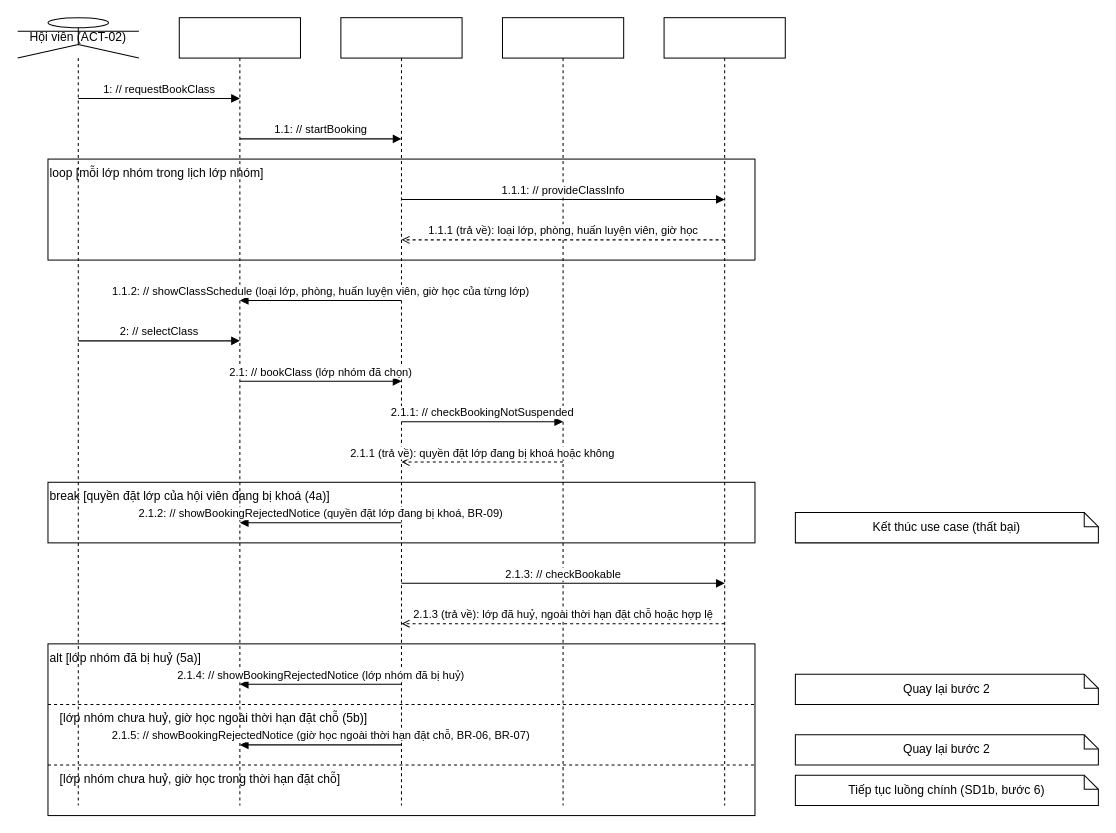
Image size: 1116x833. Some labels were removed from this diagram. The box of each missing label's shape, as (x1, y1, x2, y2) in pixels:
:BookClassSpotHandler: (340, 17, 462, 805)
:BookClassSpotUI: (178, 17, 300, 805)
:GroupClass: (663, 17, 785, 805)
:Member: (501, 17, 624, 805)
